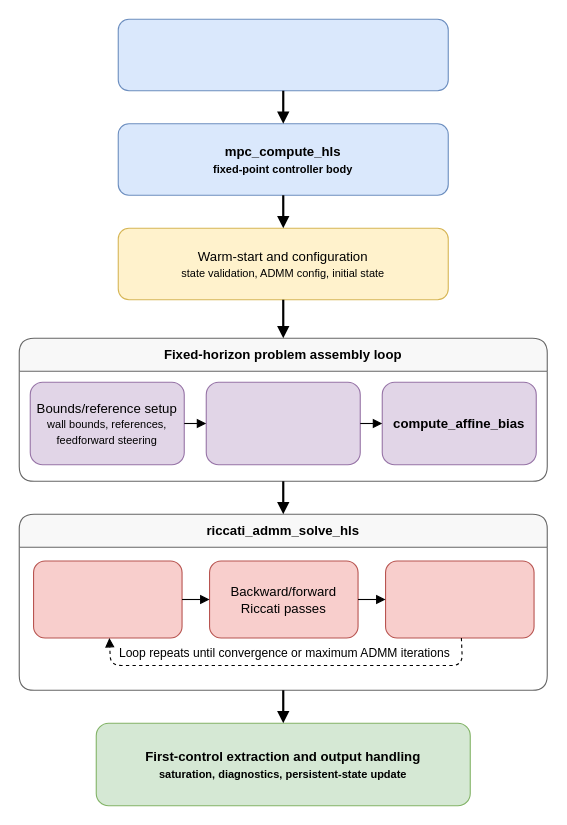
Image size: 567x825. Some labels were removed from this diagram. Here are the shapes that lost their labels. From the top down, the centre of each, then its label:
At (x=282, y=54): "mpc_fpga_compute_core persistent actuator/solver state".
At (x=282, y=423): "compute_frenet".
At (x=107, y=599): "riccati_pass_hls".
At (x=459, y=599): "Projection, dual update, residuals".
